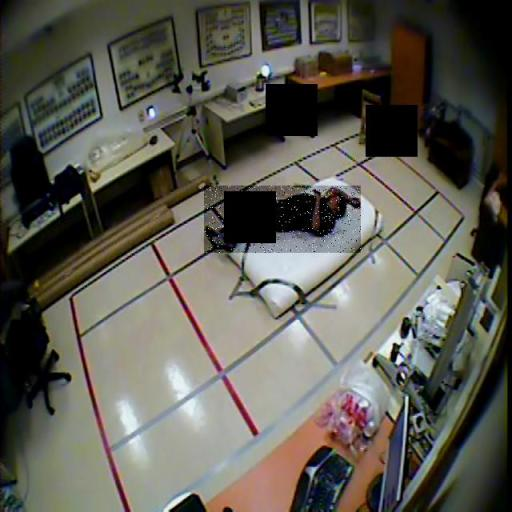Fall: (204, 186, 361, 253)
